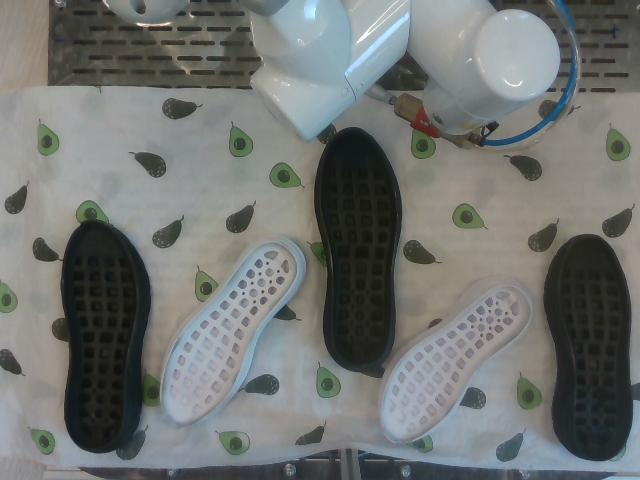shoes: (161, 242, 297, 429), (381, 285, 531, 443), (321, 130, 397, 364), (63, 221, 137, 448), (560, 236, 632, 460)
